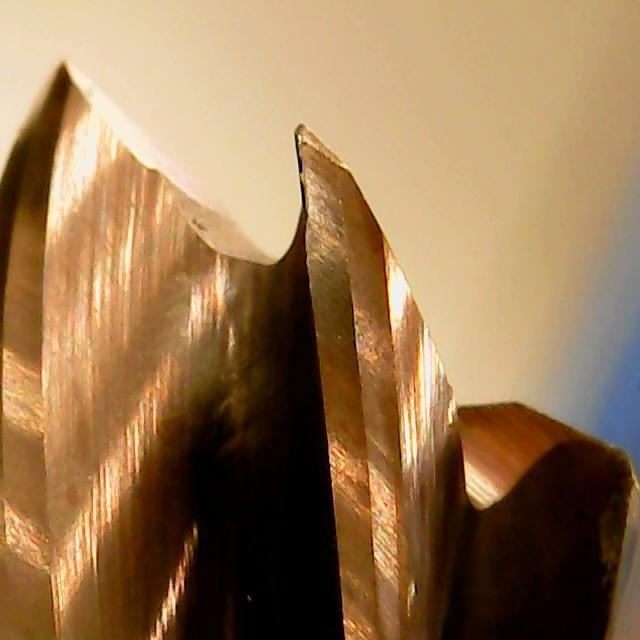Tool-wear-class-1: (273, 119, 397, 362)
